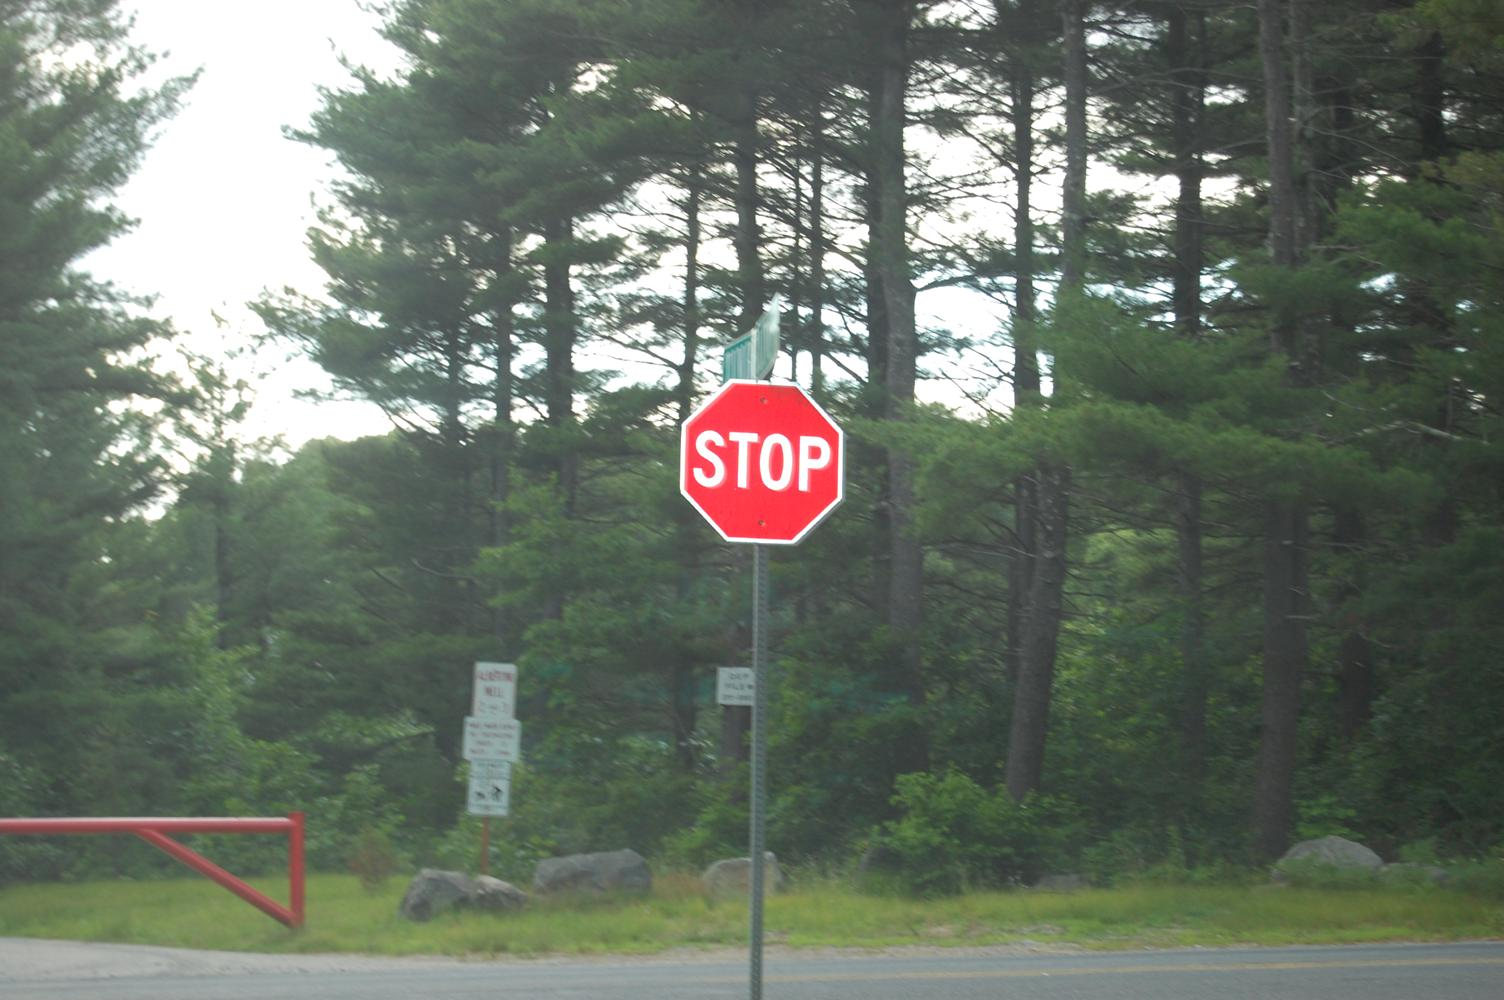stop: (664, 377, 843, 547)
